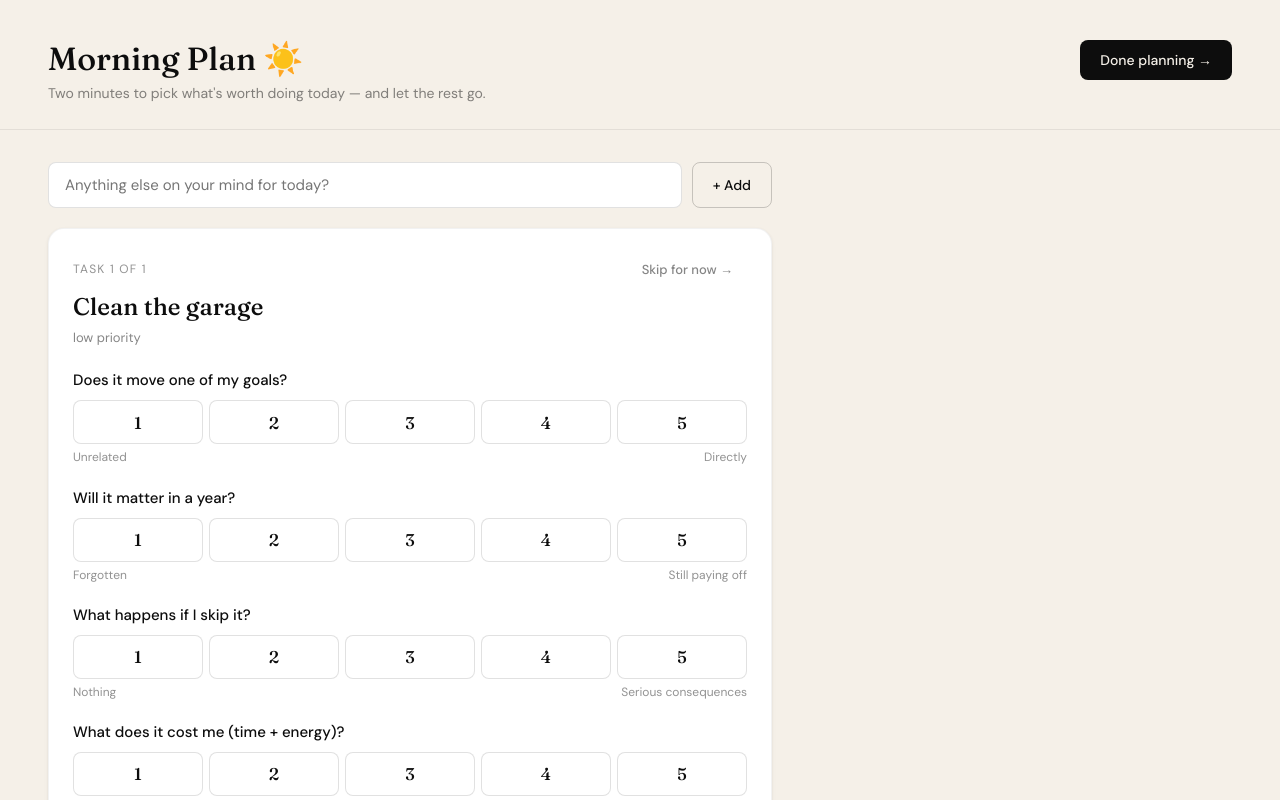
Test: adding a task while rating another keeps the ratings on the task being rated
Expected: the heading "Clean the garage" is shown, [73, 292, 263, 321]
Step 1. Click the radio button labelled "4" below "Does it move one of my goals?" → (546, 422), box [481, 400, 611, 444]
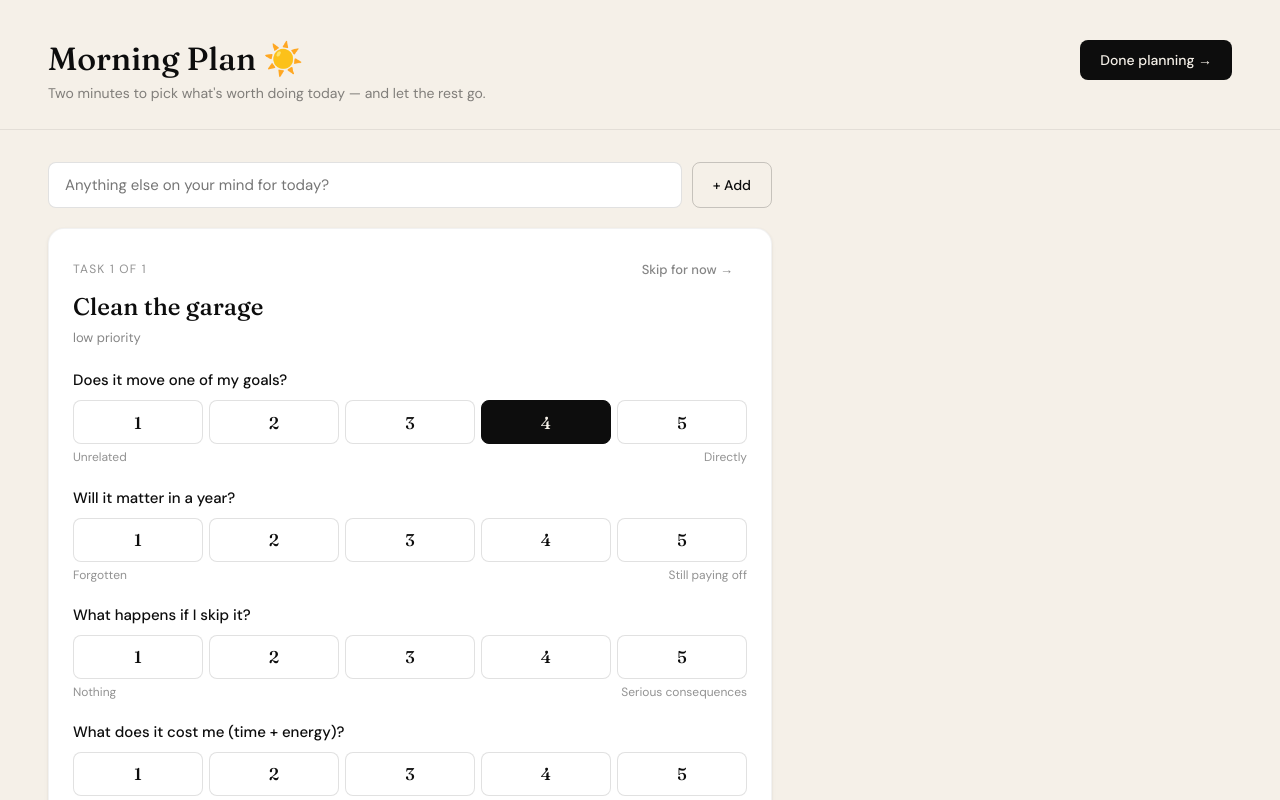
Step 2. Type "Call the bank" into the field named "Add a task" → (365, 185), box [48, 162, 682, 208]
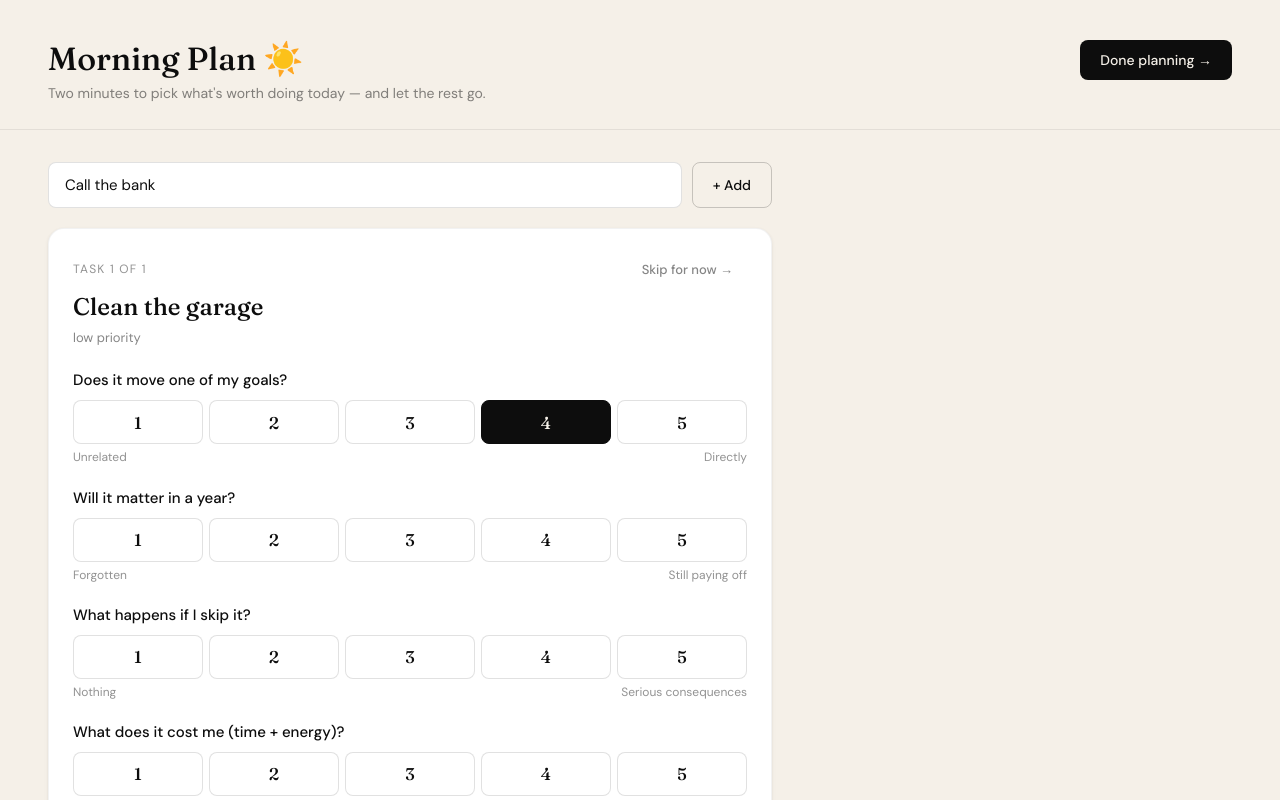
Step 3. Click the button "+ Add" → (732, 185), box [692, 162, 772, 208]
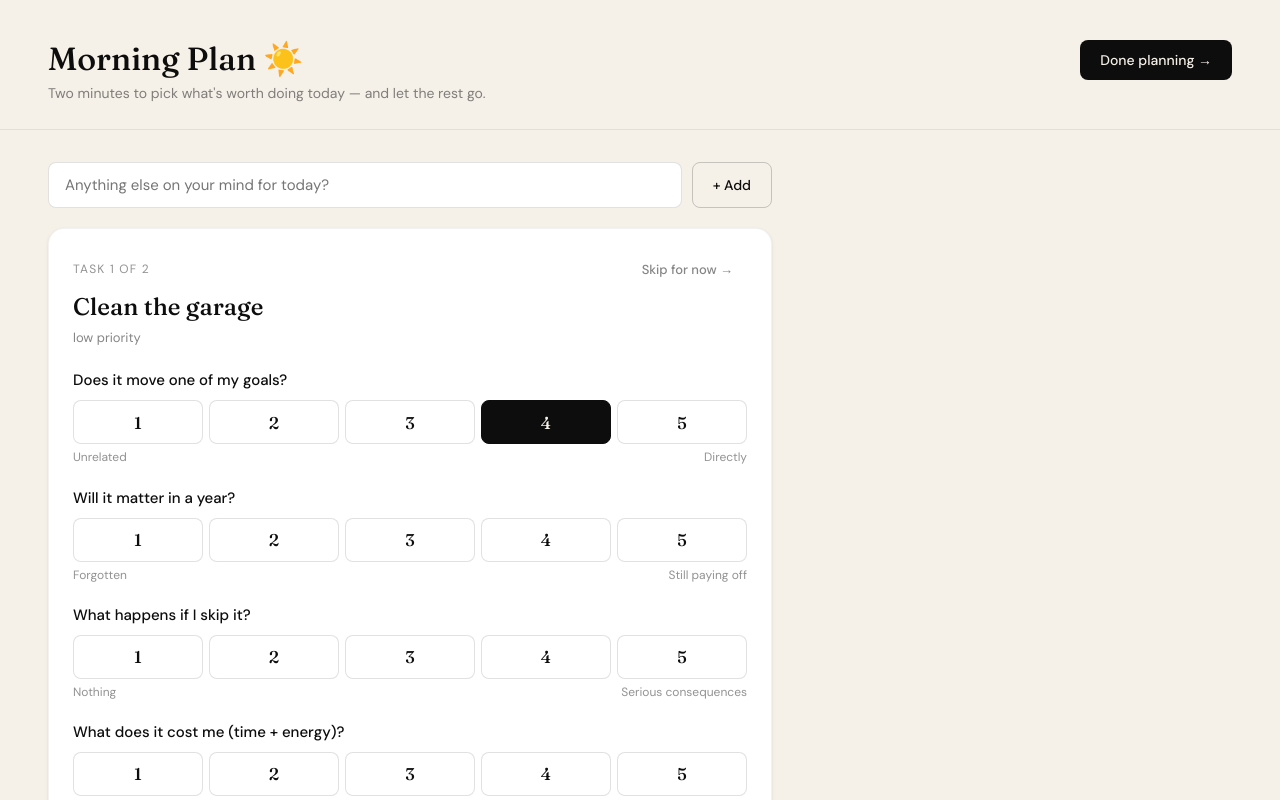
Expected: the heading "Clean the garage" is shown, [73, 292, 263, 321]
Expected: the text "Task 1 of 2" is shown, [73, 260, 150, 279]
